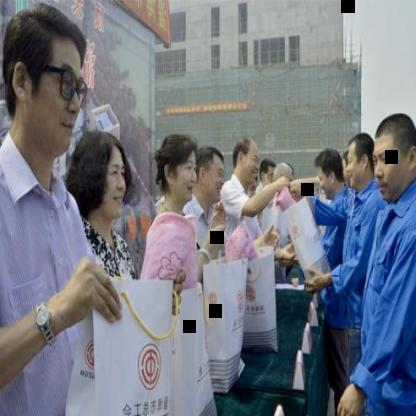head: (1, 1, 87, 161), (68, 131, 130, 228), (370, 108, 416, 198), (158, 130, 198, 206), (342, 130, 376, 192), (194, 142, 226, 204), (314, 145, 344, 198), (232, 136, 258, 186), (273, 162, 294, 194), (258, 156, 276, 191)
